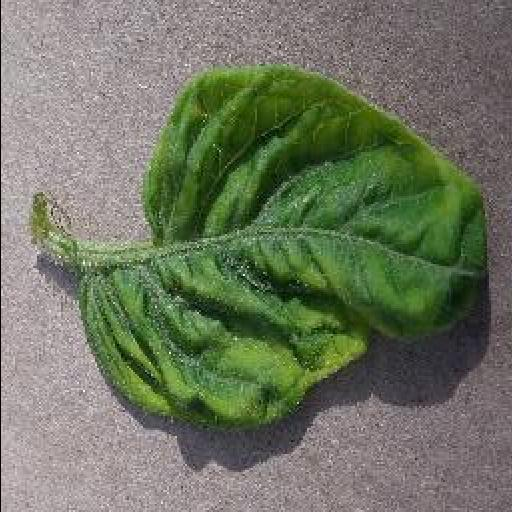disease_tomato: (78, 60, 492, 426)
